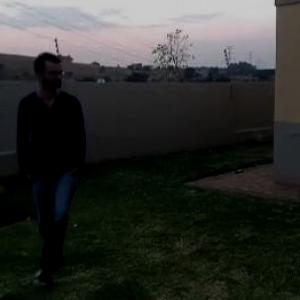follow: (31, 47, 93, 267)
